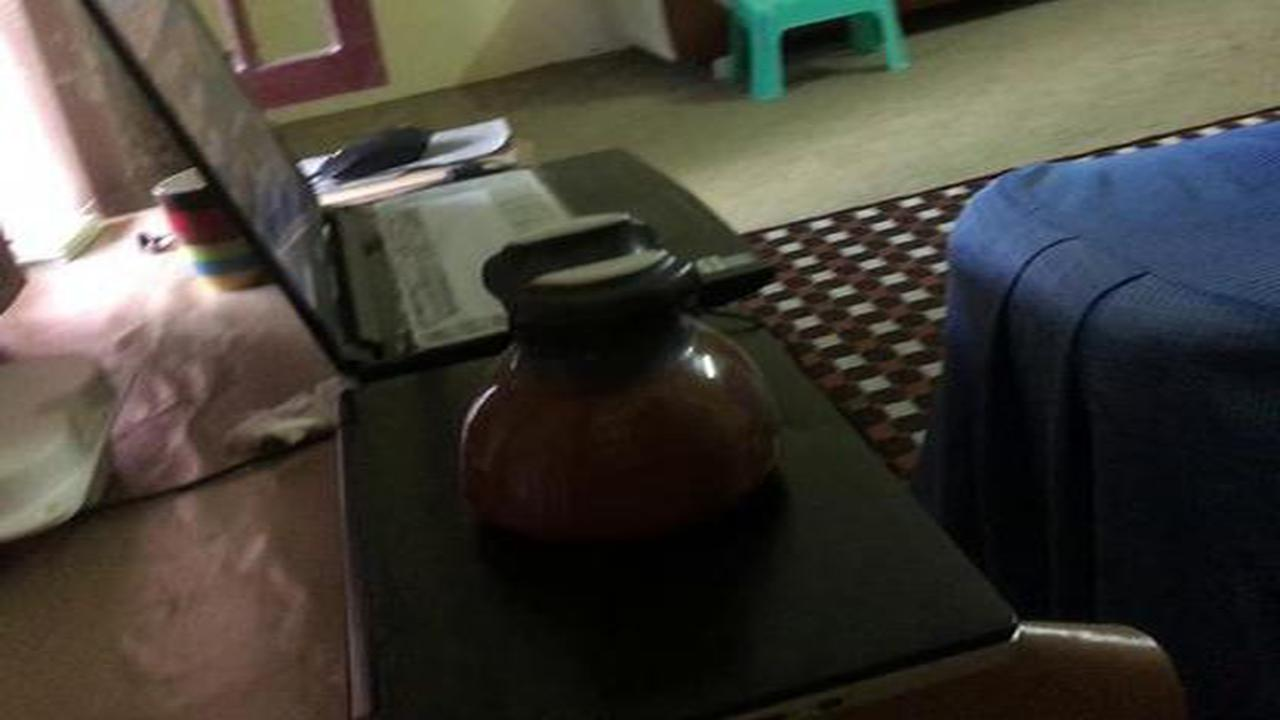insulator_pin: (434, 200, 816, 575)
